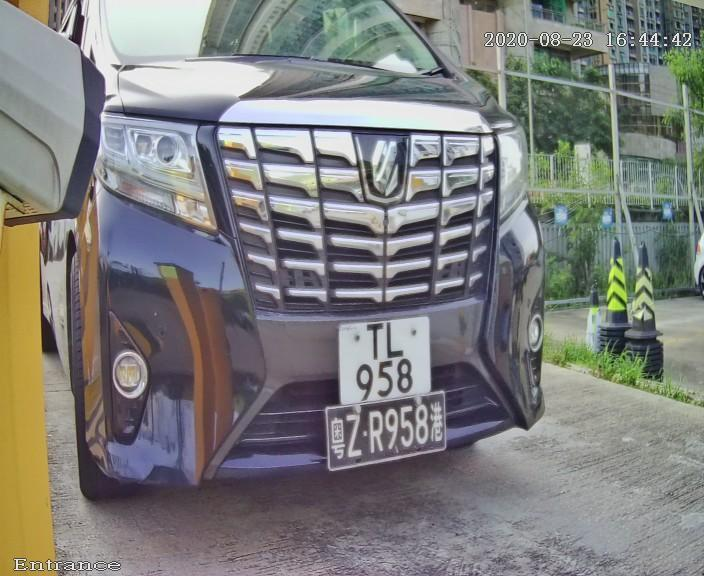Car: (45, 1, 573, 561)
License Plate: (302, 271, 465, 436)
